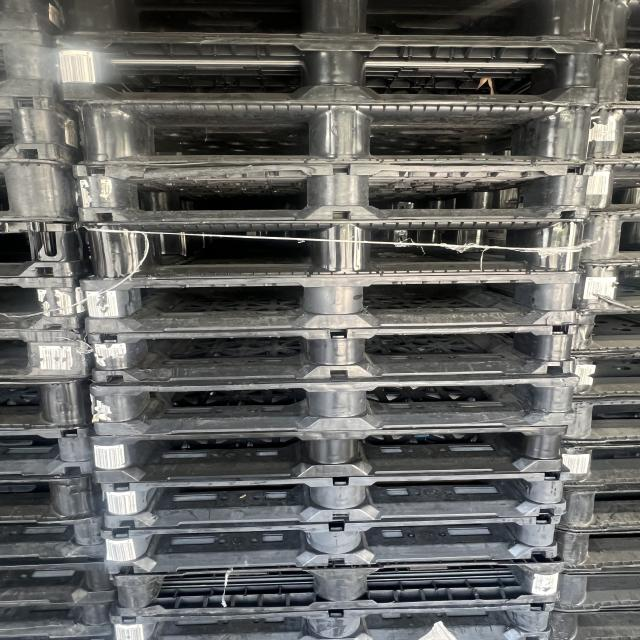igps: (45, 32, 608, 110), (63, 96, 602, 169), (69, 154, 598, 225), (86, 371, 584, 441), (73, 268, 584, 336), (79, 218, 594, 282), (85, 322, 582, 386), (96, 513, 570, 578), (105, 554, 568, 619), (99, 468, 572, 530), (84, 424, 570, 484), (54, 0, 604, 45), (103, 598, 559, 640), (0, 93, 87, 167), (0, 218, 98, 282), (0, 560, 120, 610), (0, 422, 98, 483), (0, 513, 111, 566), (0, 470, 104, 525), (0, 157, 84, 225), (0, 376, 97, 434), (0, 327, 98, 384), (0, 274, 91, 334), (0, 596, 121, 640), (549, 526, 640, 578), (0, 26, 63, 100), (552, 482, 640, 534), (550, 568, 640, 615), (555, 440, 640, 489), (560, 394, 640, 446), (570, 260, 640, 312), (577, 208, 640, 264), (583, 102, 640, 163), (568, 352, 640, 400), (542, 604, 640, 639), (568, 308, 640, 353), (582, 159, 640, 213), (592, 47, 640, 106)
